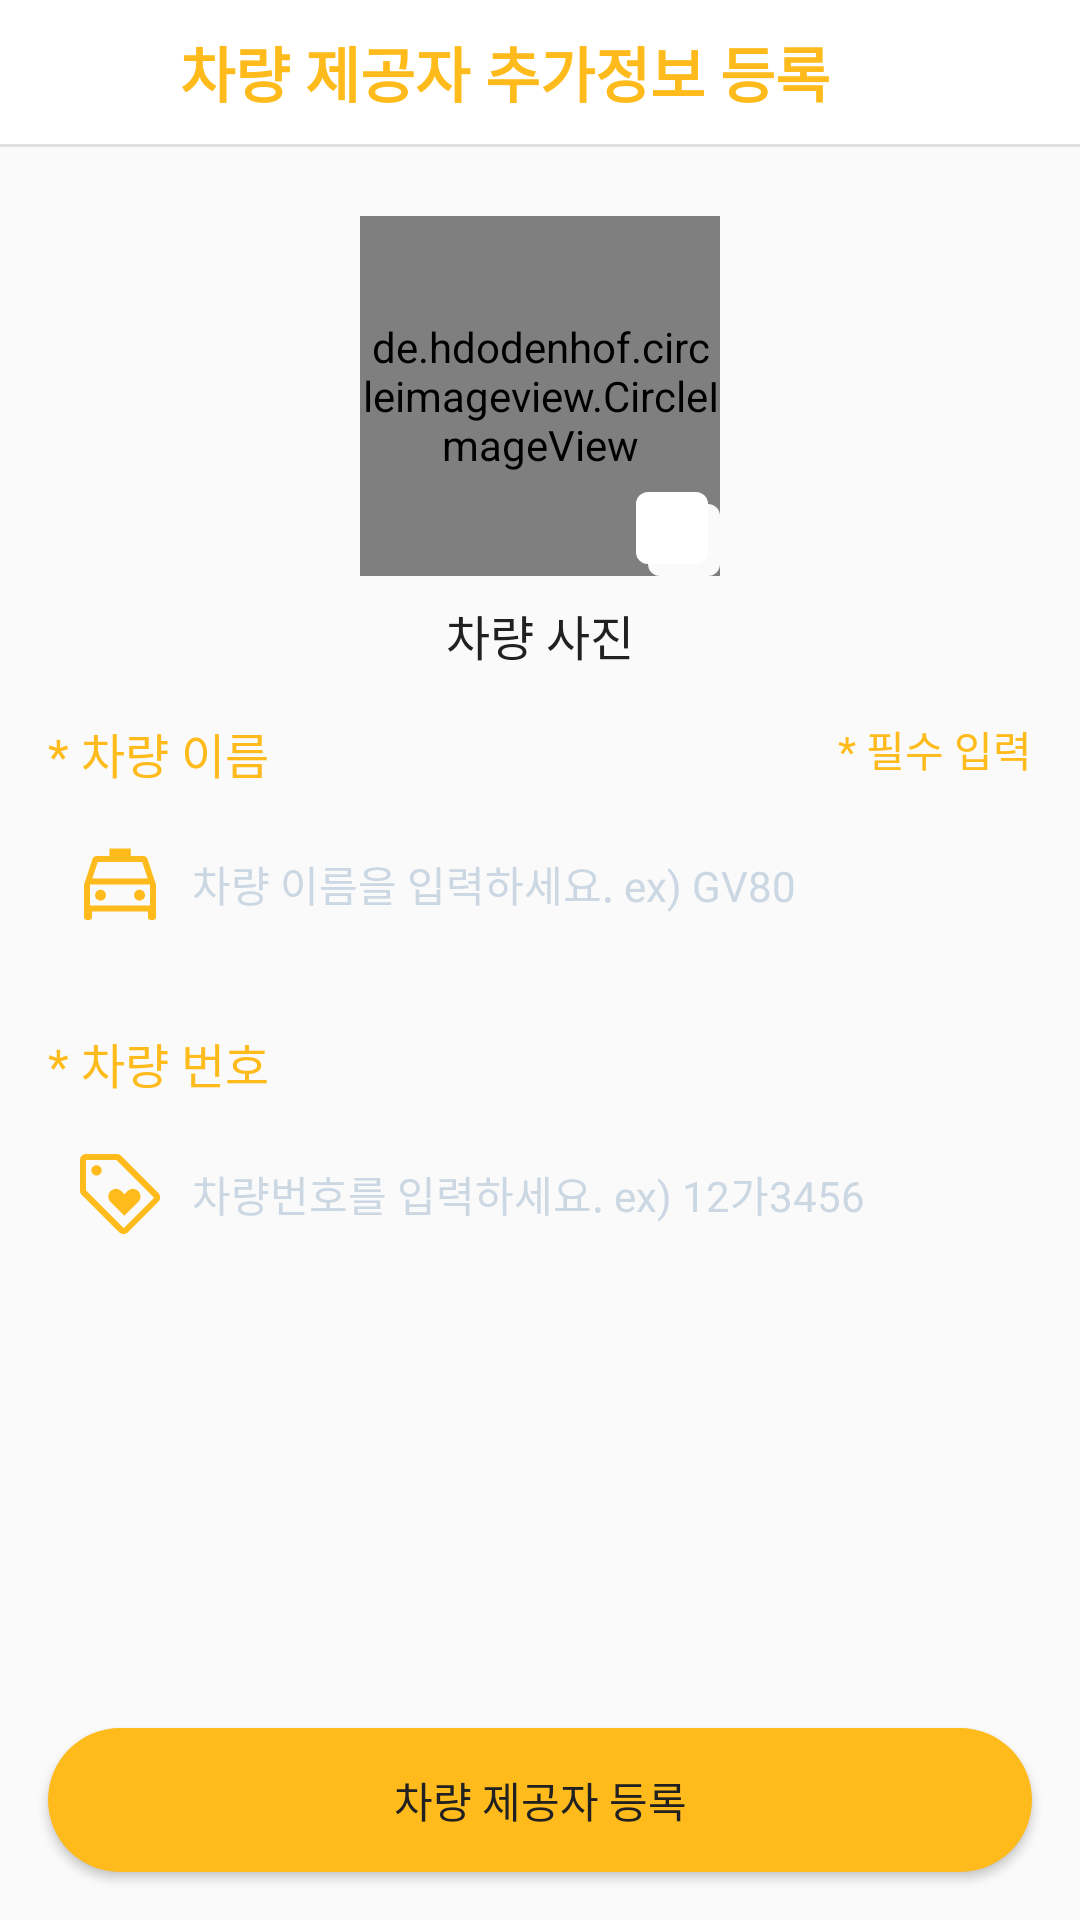

Locate icon controls on the screen. Image size 1080 x 1920, boxes as (x1, y1, x2, y2).
local taxi: (84, 848, 156, 920)
tag: (80, 1154, 161, 1234)
